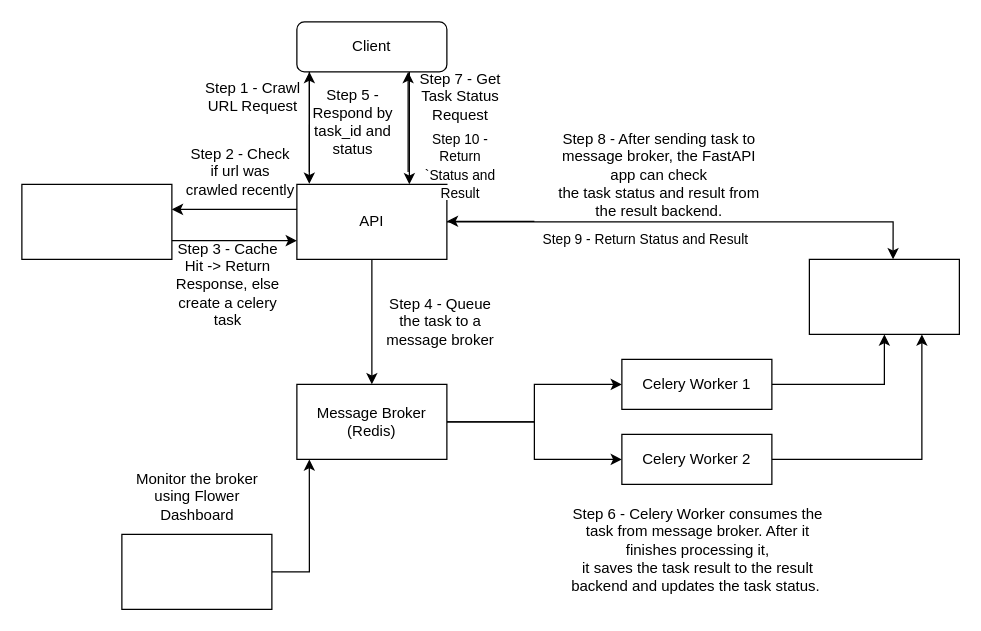
Image size: 981x631. Some labels were removed from this diagram. The shapes that lost their labels are listed below. From the top down, each one's centre as x and y in pixels, then its label:
the point at 96,221: Cache (Redis)
the point at 883,296: In-Memory Database (Redis)
the point at 196,571: Flower Dashboard
